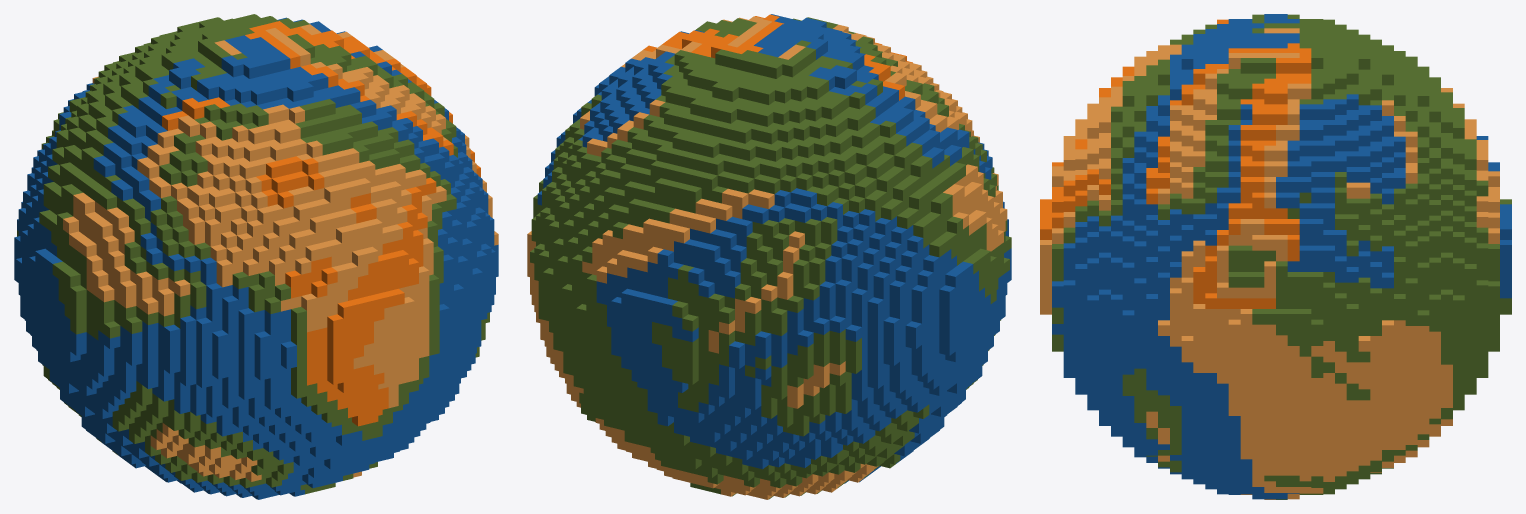
The model's file is типо земли.obj.
3 renders of one model, left to right at view 1: azimuth 30°, elevation 25°; view 2: azimuth 150°, elevation 25°; view 3: azimuth 270°, elevation 25°, orthographic.
Bounding box in the file's own units: 4 × 4 × 4.
Materials: 1 (1 with a texture image).
